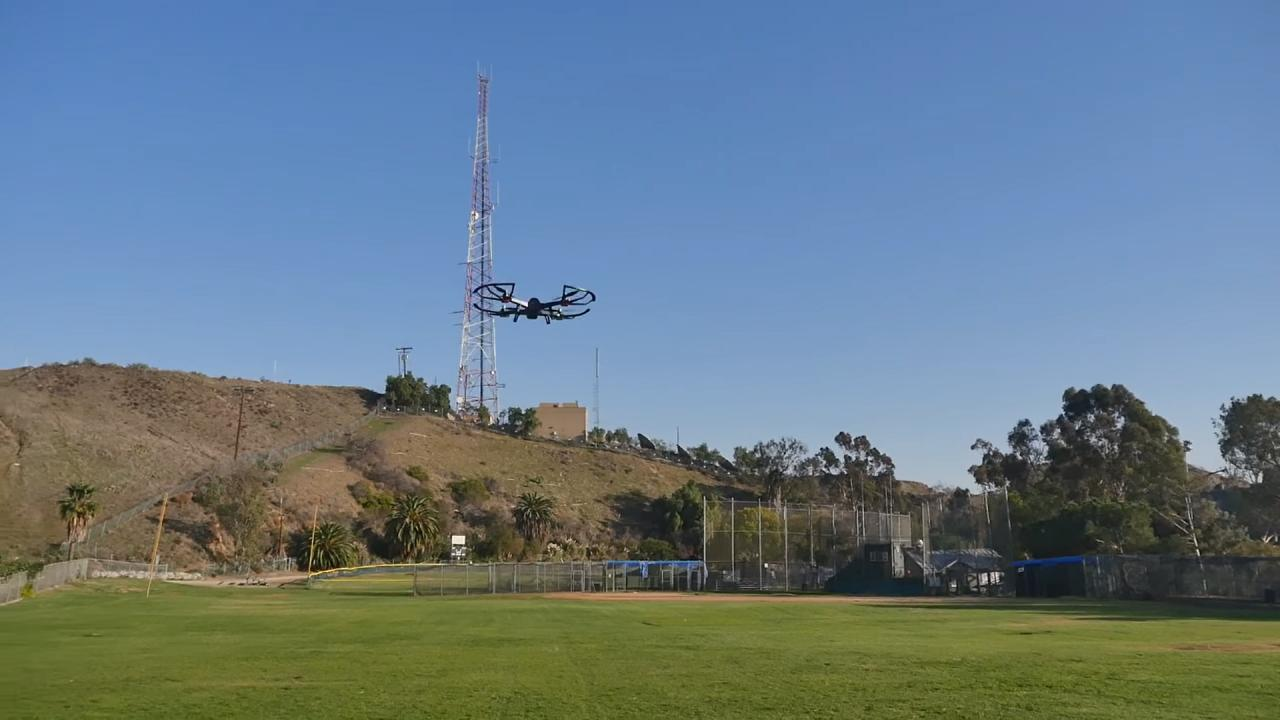Drone: (463, 270, 603, 333)
